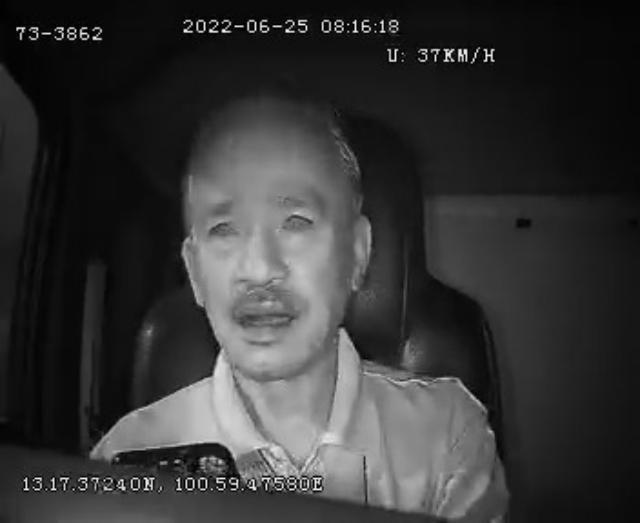PhoneUse: (115, 437, 238, 475)
SafeDriving: (197, 204, 249, 250), (272, 194, 322, 241)
